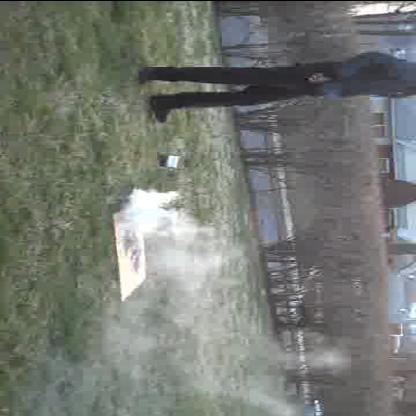Smoke: (122, 193, 180, 250)
